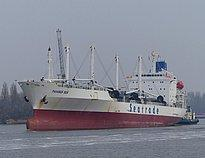Ship: (15, 44, 189, 135)
